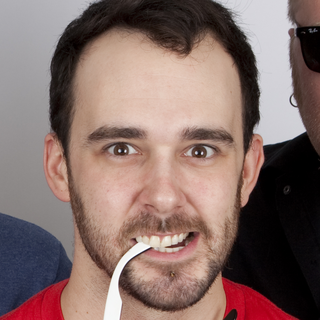eye: (174, 141, 221, 164), (98, 139, 143, 162)
